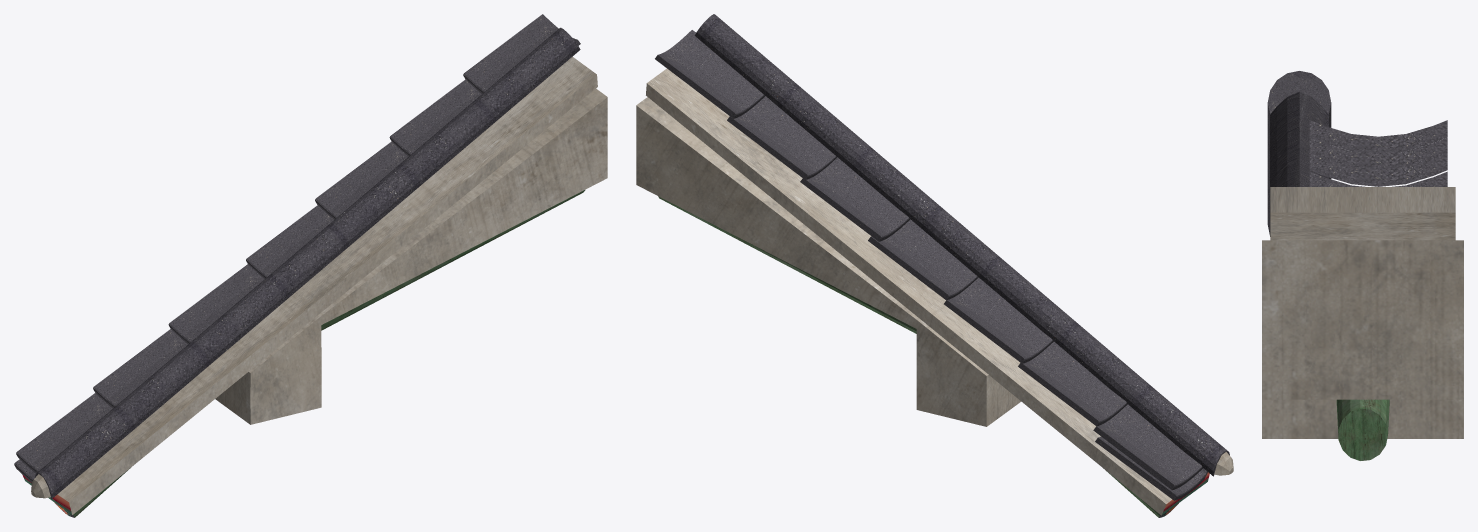
Rendered from SM_Roof_40.fbx.
The picture shows the model from 3 angles, left to right: view 1: azimuth 30°, elevation 25°; view 2: azimuth 150°, elevation 25°; view 3: azimuth 270°, elevation 25°; orthographic projection. The views are drawn at different scales.
Visible parts, largest first — view 1: SM_Roof_40; view 2: SM_Roof_40; view 3: SM_Roof_40.
Boxes of the visible parts, x1,y1,x2,y2 form: SM_Roof_40: (14, 14, 607, 517); SM_Roof_40: (636, 14, 1233, 517); SM_Roof_40: (1262, 71, 1463, 460).
Size of the model in its own units: 336 by 52.96 by 218.
4 materials, 4 textured.
